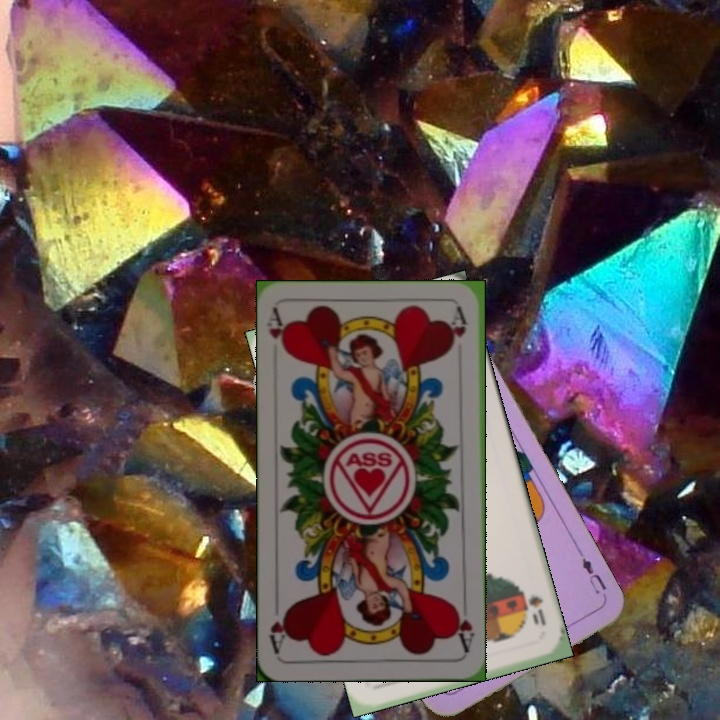EU: (575, 550, 610, 604)
HA: (450, 595, 477, 654), (263, 306, 290, 357)
SO: (518, 586, 549, 628)
